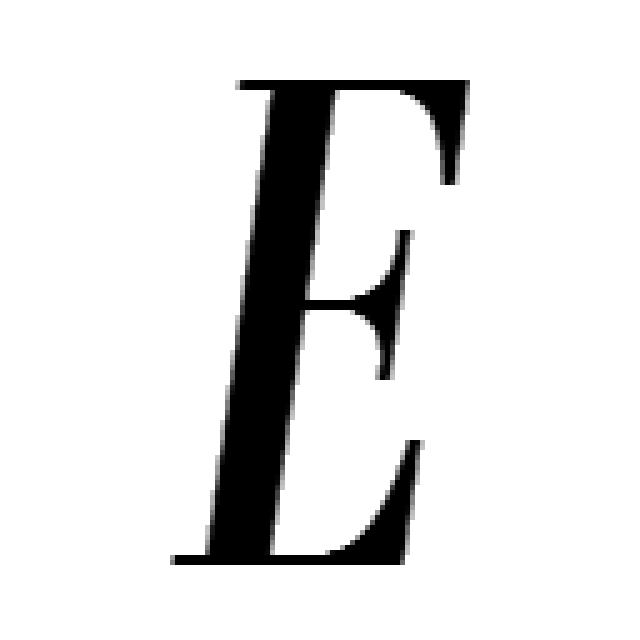E: (170, 80, 470, 570)
